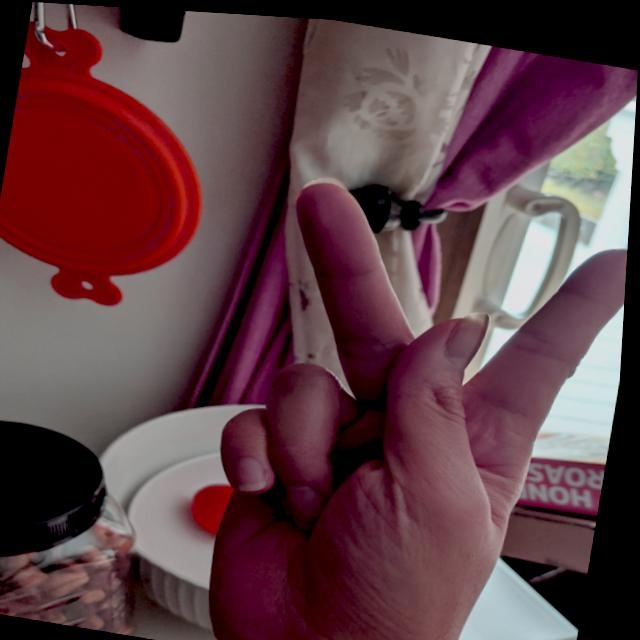K: (180, 153, 633, 639)
